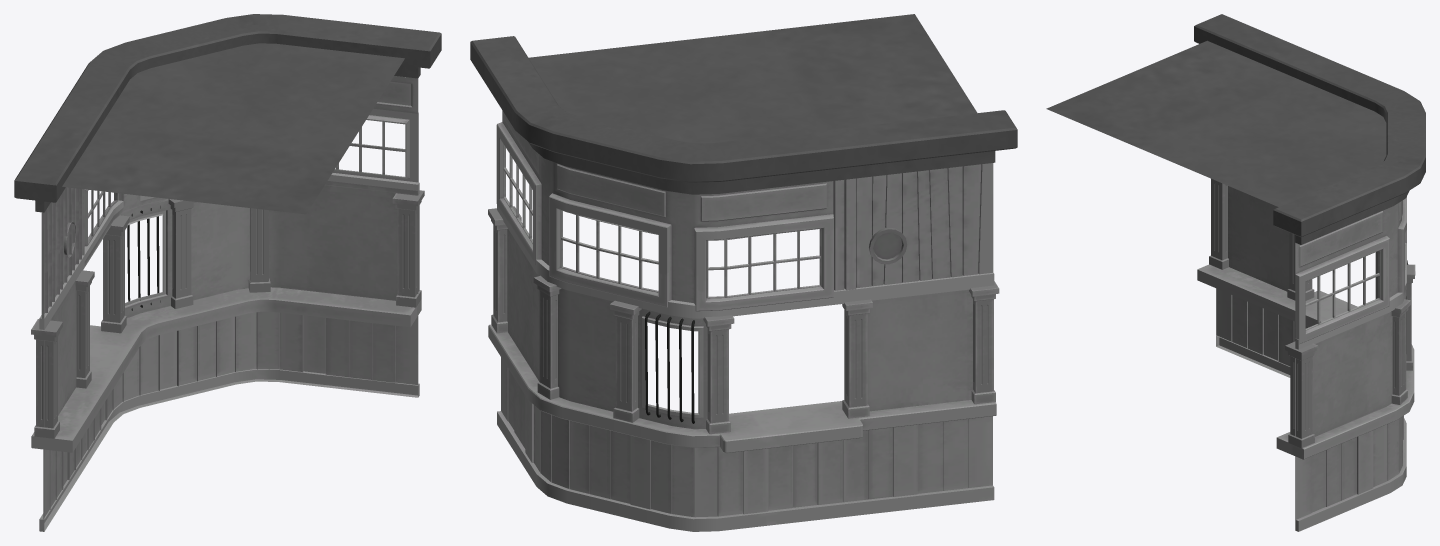
File: Post_Office.fbx
The picture shows the model from 3 angles, left to right: view 1: azimuth 30°, elevation 25°; view 2: azimuth 150°, elevation 25°; view 3: azimuth 270°, elevation 25°; orthographic projection. The views are drawn at different scales.
Visible parts, largest first — view 1: officePost, officePost6, officePost2, officePost4, officePost3, Post_Office, officePost8, officePost7, officePost26, officePost24, officePost25, officePost27 (+5 smaller); view 2: officePost, officePost2, officePost4, officePost8, officePost6, officePost7, officePost3, Post_Office, officePost5, officePost12, officePost27, officePost25 (+7 smaller); view 3: officePost, officePost4, officePost6, officePost2, officePost8, officePost3, Post_Office, officePost26, officePost28, officePost24, officePost11, officePost5 (+2 smaller).
Boxes of the visible parts, x1,y1,x2,y2 form: officePost: (62, 43, 404, 214); officePost6: (44, 185, 418, 427); officePost2: (43, 311, 418, 519); officePost4: (14, 14, 441, 212); officePost3: (31, 287, 421, 452); Post_Office: (39, 369, 419, 531); officePost8: (84, 76, 418, 265); officePost7: (41, 187, 84, 318); officePost26: (392, 190, 424, 307); officePost24: (31, 319, 62, 438); officePost25: (101, 215, 129, 333); officePost27: (168, 199, 196, 308); officePost: (529, 14, 977, 143); officePost2: (501, 357, 992, 517); officePost4: (470, 36, 1017, 194); officePost8: (496, 110, 833, 311); officePost6: (507, 229, 972, 429); officePost7: (833, 163, 993, 290); officePost3: (488, 324, 996, 452); Post_Office: (497, 411, 994, 531); officePost5: (497, 204, 994, 318); officePost12: (842, 299, 872, 418); officePost27: (610, 300, 641, 422); officePost25: (703, 315, 734, 434); officePost: (1046, 40, 1386, 206); officePost4: (1194, 14, 1425, 244); officePost6: (1228, 186, 1392, 436); officePost2: (1216, 288, 1403, 519); officePost8: (1295, 197, 1406, 344); officePost3: (1197, 264, 1414, 459); Post_Office: (1216, 336, 1406, 531); officePost26: (1285, 341, 1318, 448); officePost28: (1391, 299, 1410, 404); officePost24: (1209, 178, 1228, 269); officePost11: (1305, 250, 1380, 330); officePost5: (1295, 290, 1406, 349).
Size of the model in its own units: 972 by 703 by 752.
